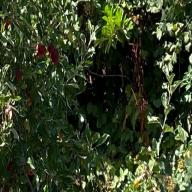Apples: (4, 106, 14, 121), (36, 44, 46, 57), (7, 162, 15, 178), (52, 50, 60, 64), (25, 91, 32, 106), (5, 20, 13, 33), (14, 68, 22, 79), (48, 44, 54, 54)
